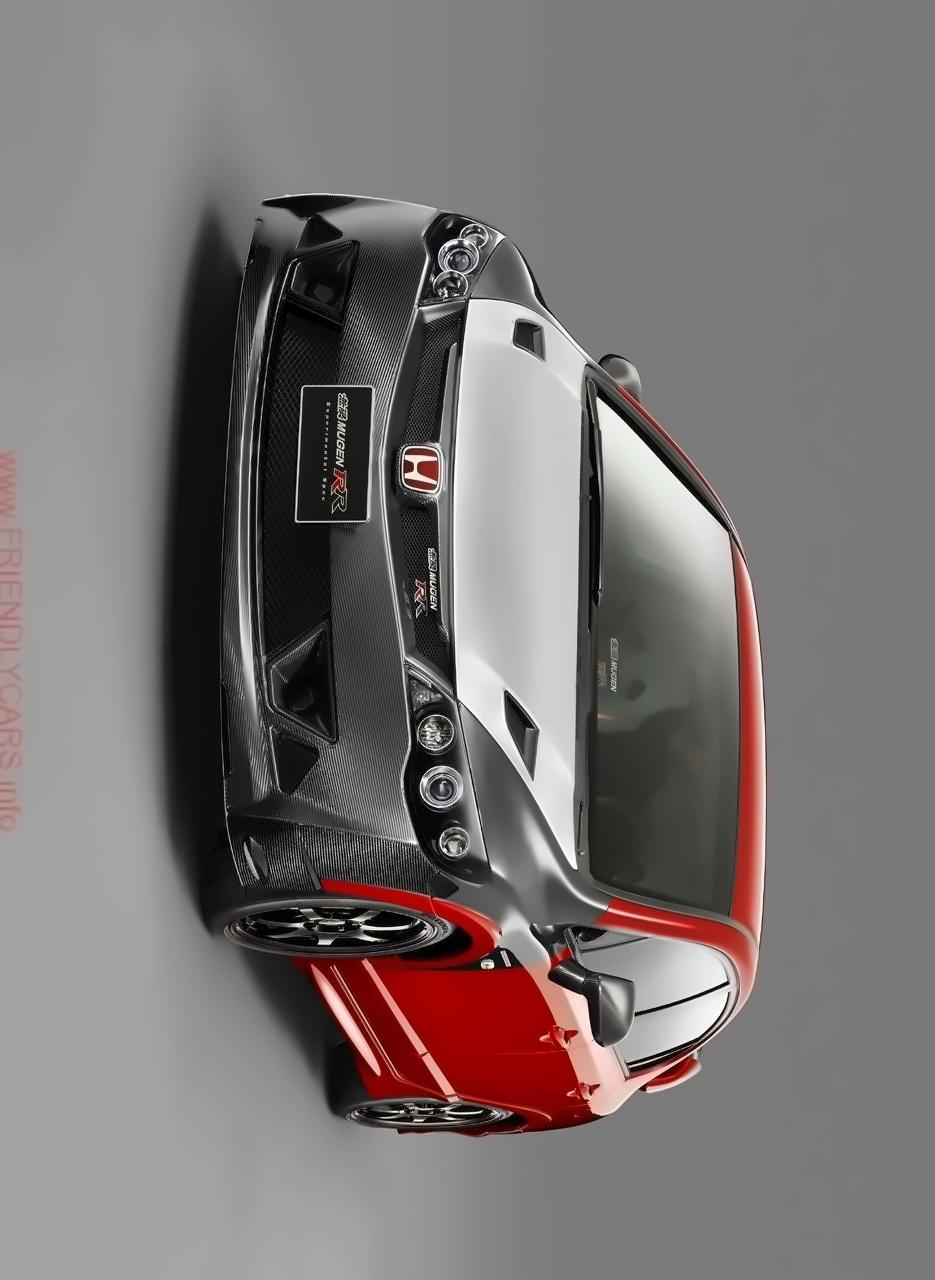Car hood: (450, 225, 599, 883)
Fender - -F-L-: (302, 857, 621, 980)
Front bumper: (209, 185, 418, 925)
Headlight - -L-: (389, 656, 501, 892)
Headlight - -R-: (410, 202, 513, 321)
Passenger-s door - -F-L-: (292, 935, 749, 1051)
Passenger-s door - -R-L-: (379, 972, 765, 1105)
Side bumper - -L-: (282, 930, 411, 1113)
Side mirror - -L-: (542, 942, 646, 1055)
Side mirror - -R-: (587, 345, 649, 409)
